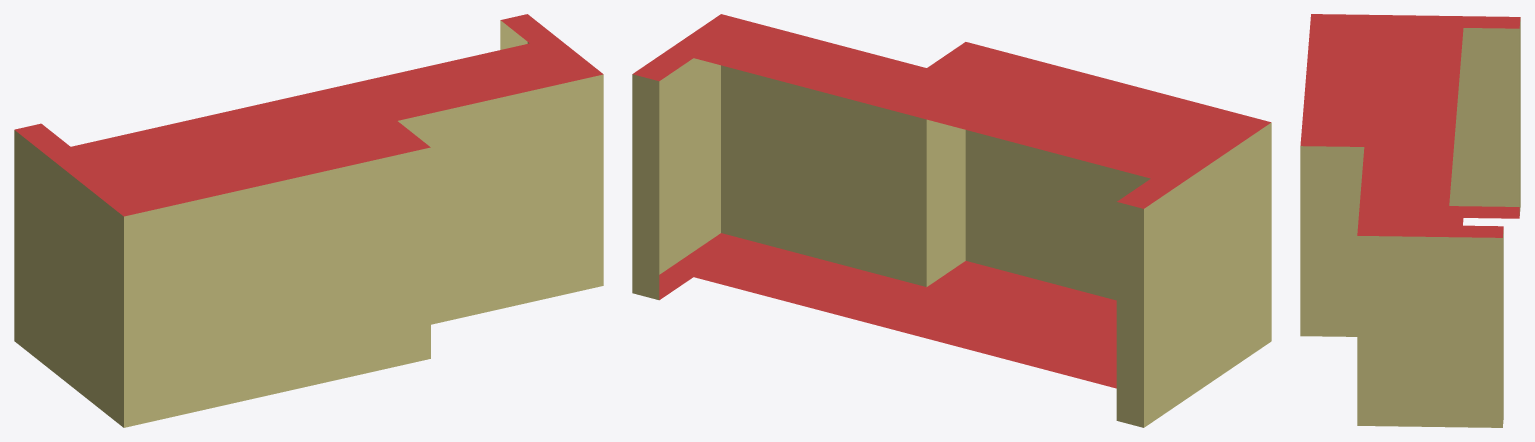
3 renders of one model, left to right at view 1: azimuth 30°, elevation 25°; view 2: azimuth 150°, elevation 25°; view 3: azimuth 270°, elevation 25°, orthographic. The views are drawn at different scales.
Size of the model in its own units: 14.36 by 5.96 by 5.68.
